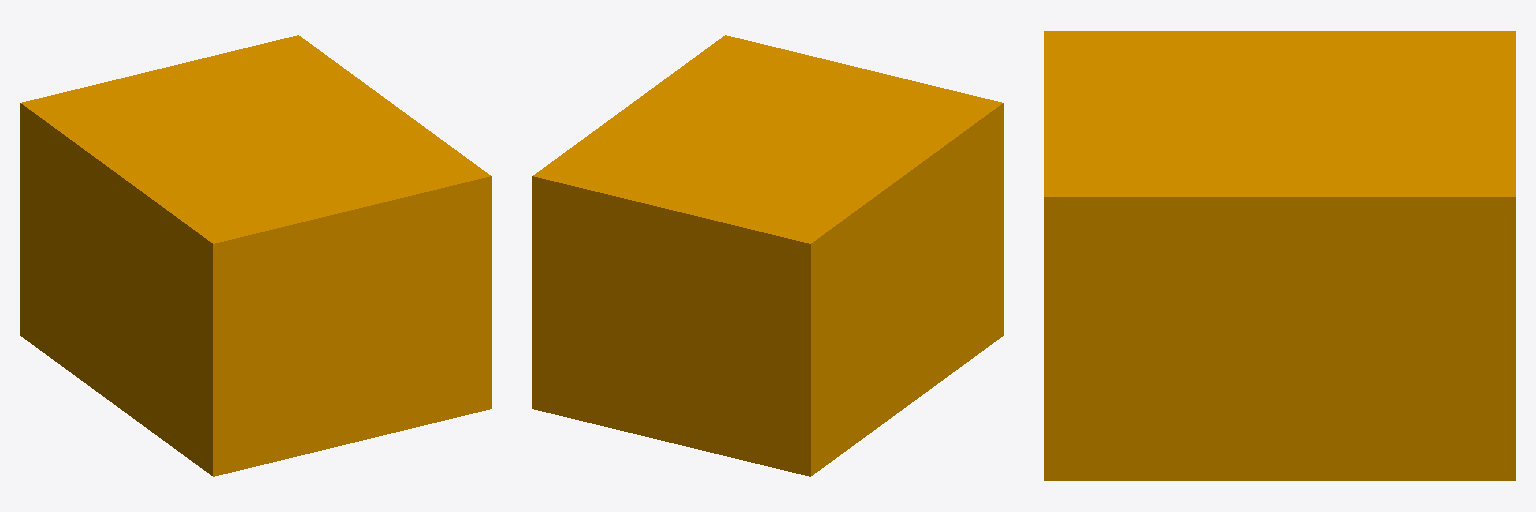
robot.urdf — 2x2:
<?xml version='1.0' encoding='UTF-8'?>
<robot name="2x2">
  <link name="base_link">
    <inertial>
      <origin xyz="0.0 0.0 0.0" rpy="0.0 0.0 0.0"/>
      <mass value="0.01"/>
      <inertia ixx="0.1" ixy="0.0" ixz="0.0" iyy="0.1" iyz="0.0" izz="0.1"/>
    </inertial>
    <visual>
      <geometry>
        <box size="0.015 0.018 0.012"/>
      </geometry>
      <material name=""/>
      <origin xyz="0.0 0.0 0.0" rpy="0.0 0.0 0.0"/>
    </visual>
    <collision>
      <geometry>
        <box size="0.015 0.018 0.012"/>
      </geometry>
      <origin xyz="0.0 0.0 0.0" rpy="0.0 0.0 0.0"/>
    </collision>
  </link>
  <material name="">
    <color rgba="1. 1. 1. 1."/>
  </material>
  <contact>
    <lateral_friction value="1.0"/>
    <rolling_friction value="0.0"/>
    <contact_cfm value="0.0"/>
    <contact_erp value="1.0"/>
  </contact>
</robot>

--- Facts derived from the render (not from the file) ---
The picture shows the robot from 3 angles, left to right: view 1: azimuth 30°, elevation 25°; view 2: azimuth 150°, elevation 25°; view 3: azimuth 270°, elevation 25°; orthographic projection.
Model 2x2 with 1 links and 0 joints (none), rooted at base_link, posed all joints at 0.
Links seen in each view (by area): view 1: base_link; view 2: base_link; view 3: base_link.
Link boxes in pixels (x1,y1,x2,y2): base_link: [20, 35, 491, 476]; base_link: [532, 35, 1003, 476]; base_link: [1044, 31, 1515, 480].
Size in the robot's own frame: 0.015 by 0.018 by 0.012 metres.
Geometry: primitives only (box / cylinder / sphere), no mesh files.